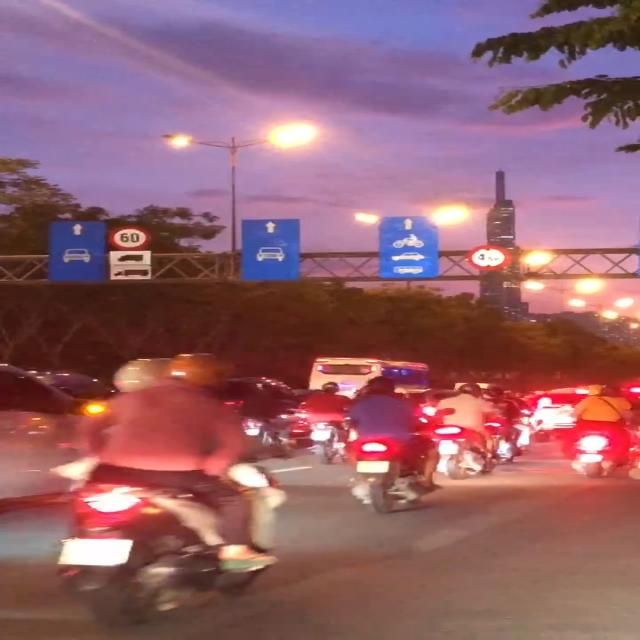Bien bao han che chieu cao: (462, 240, 512, 271)
Bien bao toc do toi da cho phep: (102, 221, 158, 252)
